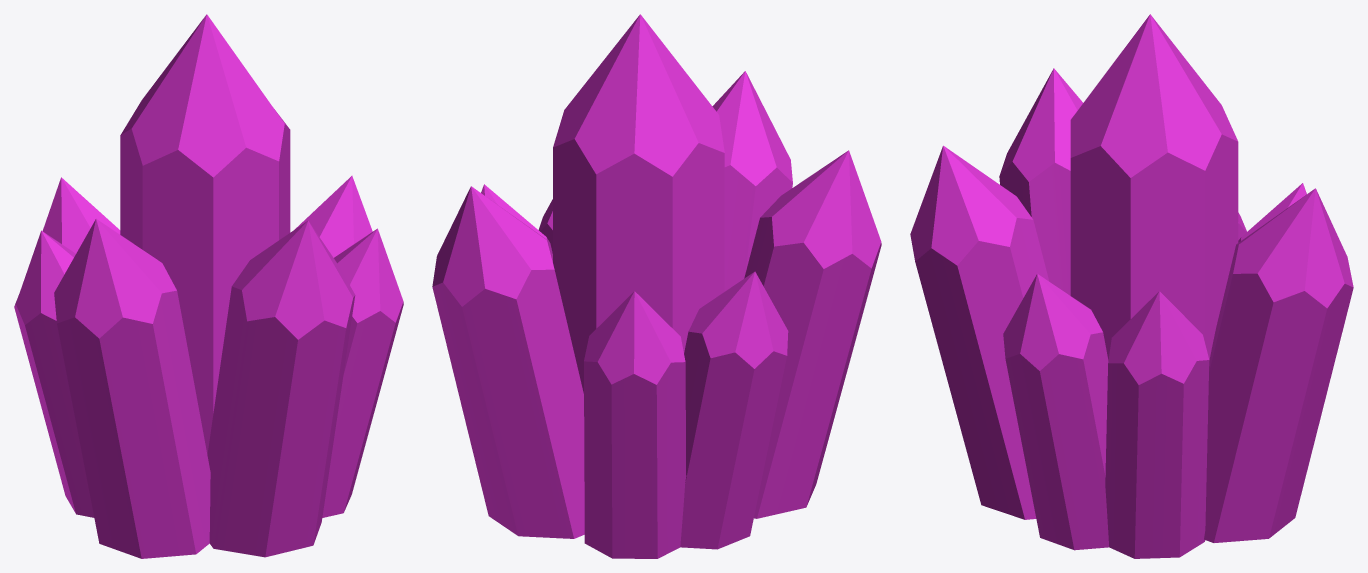
Rendered from Crystal.fbx.
The picture shows the model from 3 angles, left to right: view 1: azimuth 30°, elevation 25°; view 2: azimuth 150°, elevation 25°; view 3: azimuth 270°, elevation 25°; orthographic projection.
Parts seen in each view (by area): view 1: Cylinder, Cylinder.007, Cylinder.001, Cylinder.002, Cylinder.006, Cylinder.003, Cylinder.005; view 2: Cylinder, Cylinder.004, Cylinder.007, Cylinder.005, Cylinder.006, Cylinder.001; view 3: Cylinder, Cylinder.004, Cylinder.001, Cylinder.003, Cylinder.002, Cylinder.007, Cylinder.005.
Boxes of the visible parts, x1,y1,x2,y2 form: Cylinder: [120, 14, 290, 454]; Cylinder.007: [54, 219, 210, 558]; Cylinder.001: [207, 220, 355, 557]; Cylinder.002: [322, 228, 403, 517]; Cylinder.006: [14, 230, 94, 517]; Cylinder.003: [295, 175, 372, 257]; Cylinder.005: [42, 177, 120, 253]; Cylinder: [553, 14, 724, 393]; Cylinder.004: [432, 186, 584, 538]; Cylinder.007: [744, 150, 881, 518]; Cylinder.005: [584, 291, 686, 558]; Cylinder.006: [680, 271, 788, 549]; Cylinder.001: [712, 71, 792, 291]; Cylinder: [1070, 14, 1238, 360]; Cylinder.004: [1204, 188, 1353, 542]; Cylinder.001: [910, 145, 1049, 519]; Cylinder.003: [1105, 291, 1209, 558]; Cylinder.002: [1003, 274, 1109, 550]; Cylinder.007: [999, 68, 1082, 295]; Cylinder.005: [1238, 183, 1306, 242].
Size of the model in its own units: 81.35 by 103 by 85.57.
